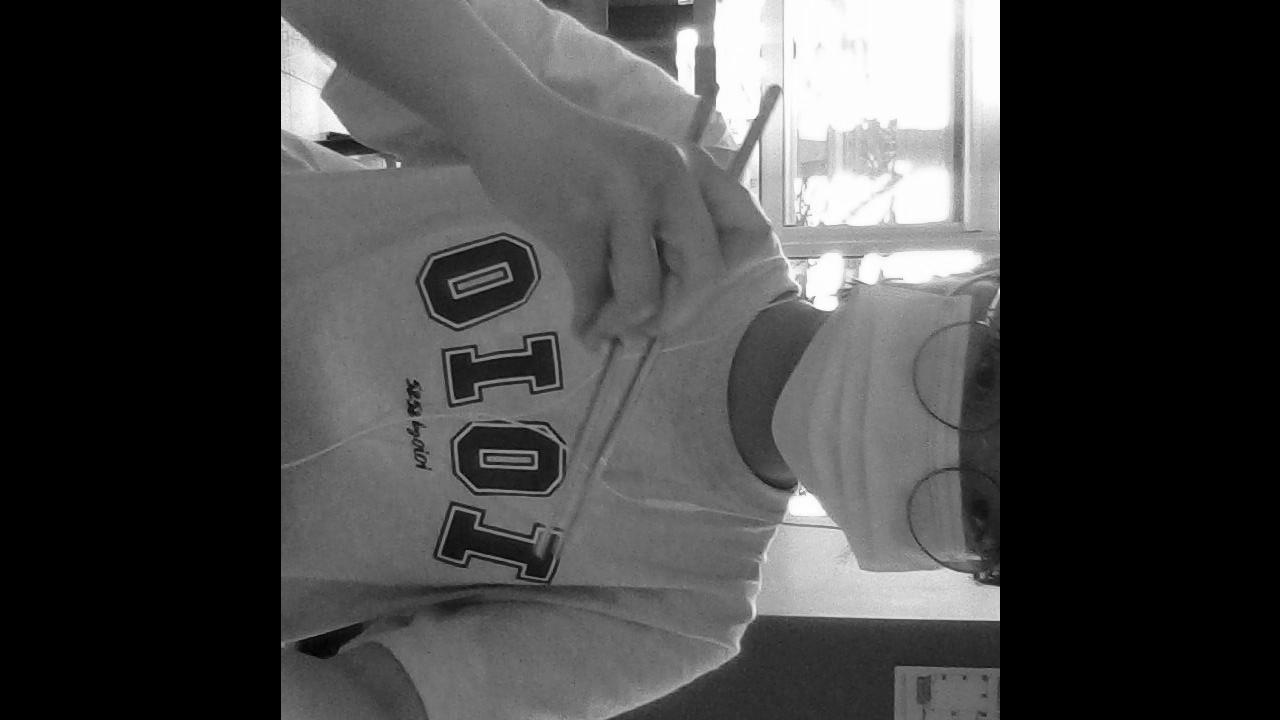chopstick: (565, 85, 778, 540), (533, 79, 721, 563)
hand: (468, 95, 771, 348)
